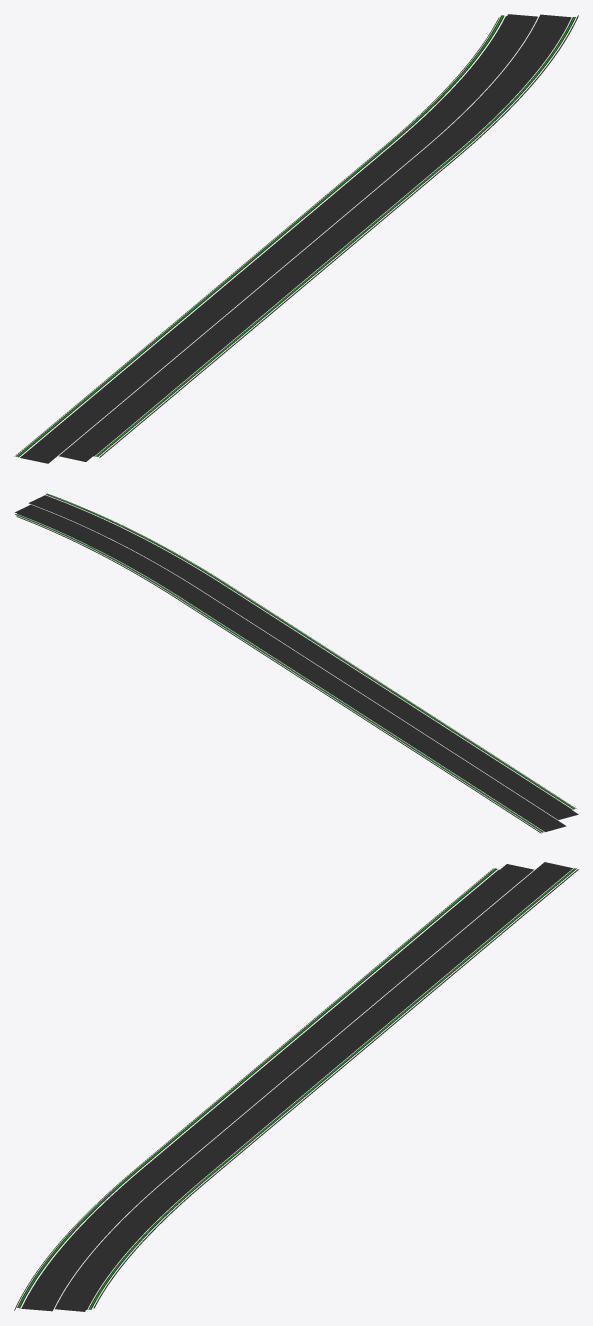
The model's file is Spa.Short.08.glb.
3 views of the same model, one above another, from view 1: azimuth 90°, elevation 25°; view 2: azimuth 150°, elevation 25°; view 3: azimuth 270°, elevation 25° (orthographic). The views are drawn at different scales.
Parts seen in each view (by area): view 1: Track.008; view 2: Track.008; view 3: Track.008.
Boxes of the visible parts, bbox=[...] form: Track.008: bbox=[14, 14, 578, 463]; Track.008: bbox=[14, 493, 578, 833]; Track.008: bbox=[14, 862, 578, 1311].
Size of the model in its own units: 205 by 0.1549 by 109.
